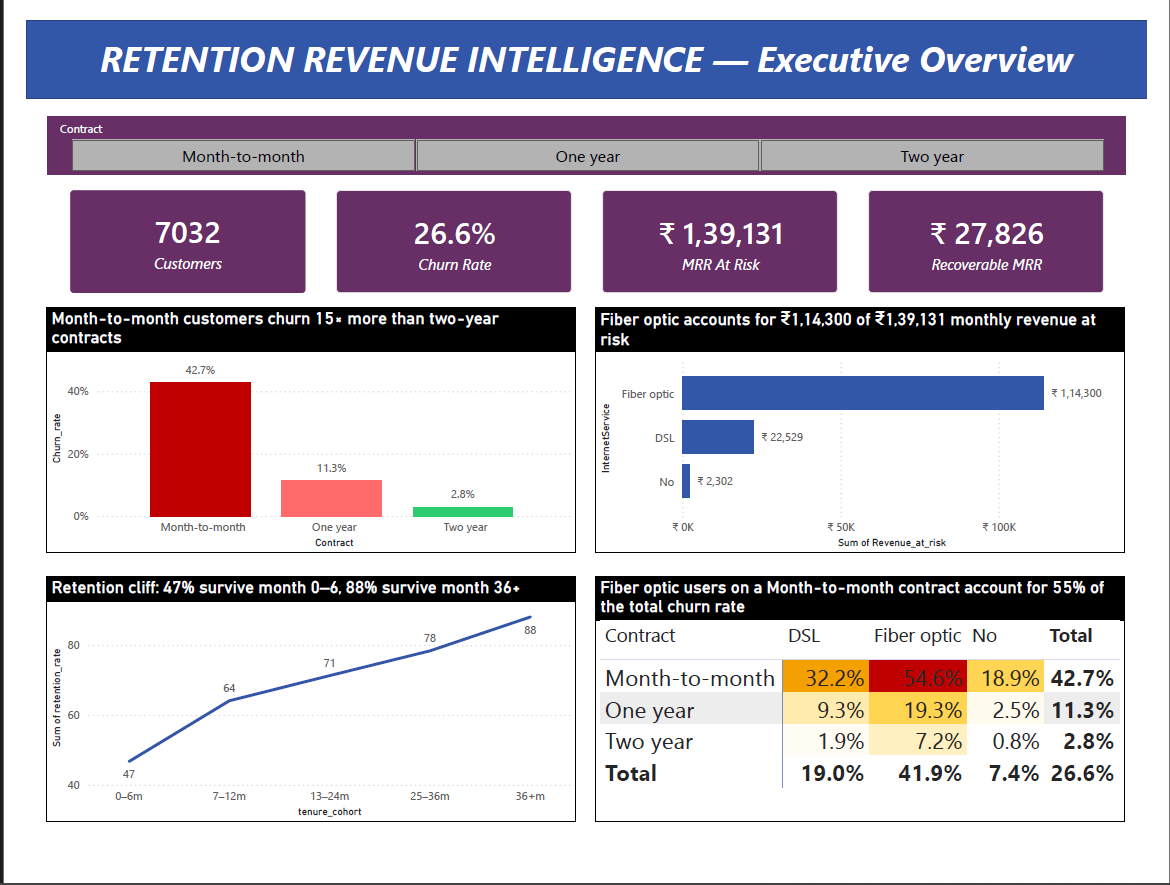

The page's visual inventory and layout, read from the dashboard file:
{"tool":"powerbi","page":{"name":"Executive Overview","canvas":[1200,900],"ordinal":0},"visuals":[{"type":"shape","box":[0,0,1280,84],"z":0},{"type":"textbox","box":[0,0,1200,84],"z":1000},{"type":"cardVisual","fields":{"Data":["Count(telco_churn_scored.customerID)"]},"box":[30,165,286,144],"z":2000,"group":"g1"},{"type":"clusteredColumnChart","title":"Month-to-month customers churn 15× more than two-year contracts","fields":{"Category":["telco_churn_scored.Contract"],"Y":["telco_churn_scored.Churn_rate"]},"box":[21.3,307,568,264],"z":2000},{"type":"cardVisual","fields":{"Data":["telco_churn_scored.Churn_rate"]},"box":[315,165,286,144],"z":3000,"group":"g1"},{"type":"clusteredBarChart","title":"Fiber optic accounts for ₹1,14,300 of ₹1,39,131 monthly revenue at risk","fields":{"Y":["Sum(telco_churn_scored.Revenue_at_risk)"],"Category":["telco_churn_scored.InternetService"]},"box":[609.3,307,568,264],"z":3000},{"type":"cardVisual","fields":{"Data":["Sum(telco_churn_scored.Revenue_at_risk)"]},"box":[600,165,286,144],"z":4000,"group":"g1"},{"type":"lineChart","title":"Retention cliff: 47% survive month 0–6, 88% survive month 36+","fields":{"Category":["cohort_retention (1).tenure_cohort"],"Y":["Sum(cohort_retention (1).retention_rate)"]},"box":[21.1,594.7,568,264],"z":4000},{"type":"cardVisual","fields":{"Data":["telco_churn_scored.Recoverable_MRR"]},"box":[885,165,286,144],"z":5000,"group":"g1"},{"type":"pivotTable","title":"Fiber optic users on a Month-to-month contract account for 55% of the total churn rate","fields":{"Rows":["telco_churn_scored.Contract"],"Columns":["telco_churn_scored.InternetService"],"Values":["telco_churn_scored.Churn_rate"]},"box":[609.3,595,568,264],"z":5000},{"type":"slicer","fields":{"Values":["telco_churn_scored.Contract"]},"box":[22.5,102.5,1155,62.5],"z":6000},{"type":"group","id":"g1","title":"Group 1","box":[30,165,1140,145],"z":7000}]}

Visuals, with their boxes in screenshot pixels (x1, y1, x2, y2), scaled from the page's 1200x900 canvas onto the 1170x885 screenshot:
shape: region(0, 0, 1169, 83)
textbox: region(0, 0, 1169, 83)
cardVisual - Count(telco_churn_scored.customerID): region(29, 162, 308, 304)
"Month-to-month customers churn 15× more than two-year contracts" clusteredColumnChart: region(21, 302, 575, 561)
cardVisual - telco_churn_scored.Churn_rate: region(307, 162, 586, 304)
"Fiber optic accounts for ₹1,14,300 of ₹1,39,131 monthly revenue at risk" clusteredBarChart: region(594, 302, 1148, 561)
cardVisual - Sum(telco_churn_scored.Revenue_at_risk): region(585, 162, 864, 304)
"Retention cliff: 47% survive month 0–6, 88% survive month 36+" lineChart: region(21, 585, 574, 844)
cardVisual - telco_churn_scored.Recoverable_MRR: region(863, 162, 1142, 304)
"Fiber optic users on a Month-to-month contract account for 55% of the total churn rate" pivotTable: region(594, 585, 1148, 845)
slicer - telco_churn_scored.Contract: region(22, 101, 1148, 162)
"Group 1" group: region(29, 162, 1141, 305)
